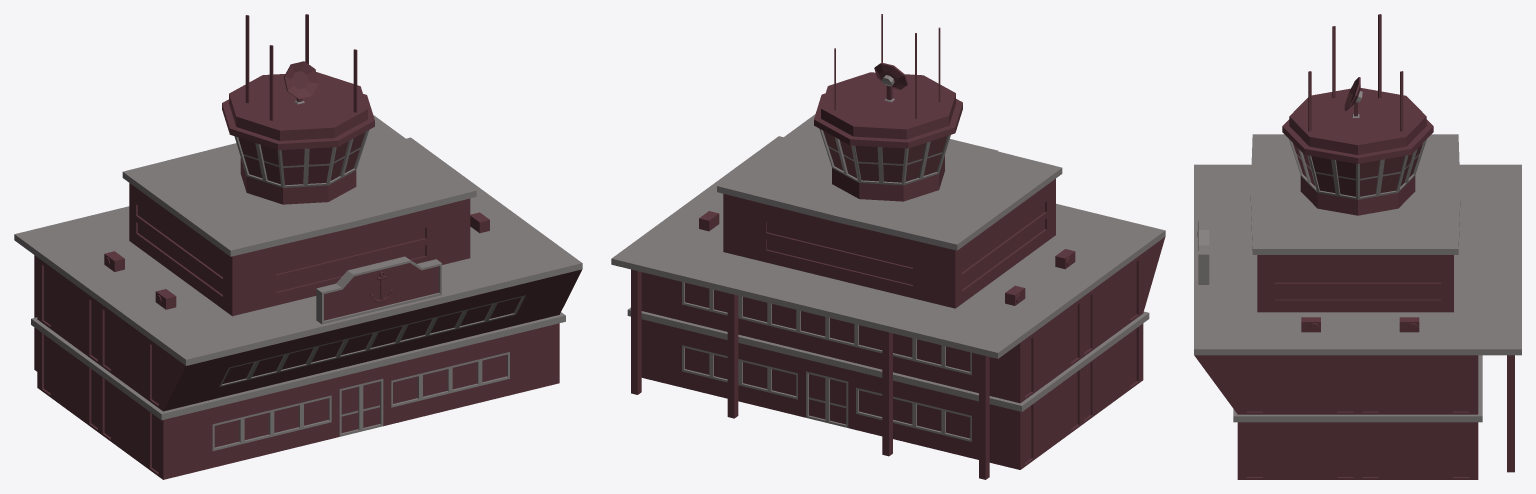
File: building-port-sea.fbx
The picture shows the model from 3 angles, left to right: view 1: azimuth 30°, elevation 25°; view 2: azimuth 150°, elevation 25°; view 3: azimuth 270°, elevation 25°; orthographic projection. The views are drawn at different scales.
Parts seen in each view (by area): view 1: building-port-sea; view 2: building-port-sea; view 3: building-port-sea.
Boxes of the visible parts, <box> form: building-port-sea: <box>14,14,582,479</box>; building-port-sea: <box>611,14,1165,479</box>; building-port-sea: <box>1194,14,1521,479</box>.
Size of the model in its own units: 27.2 by 23.87 by 20.
